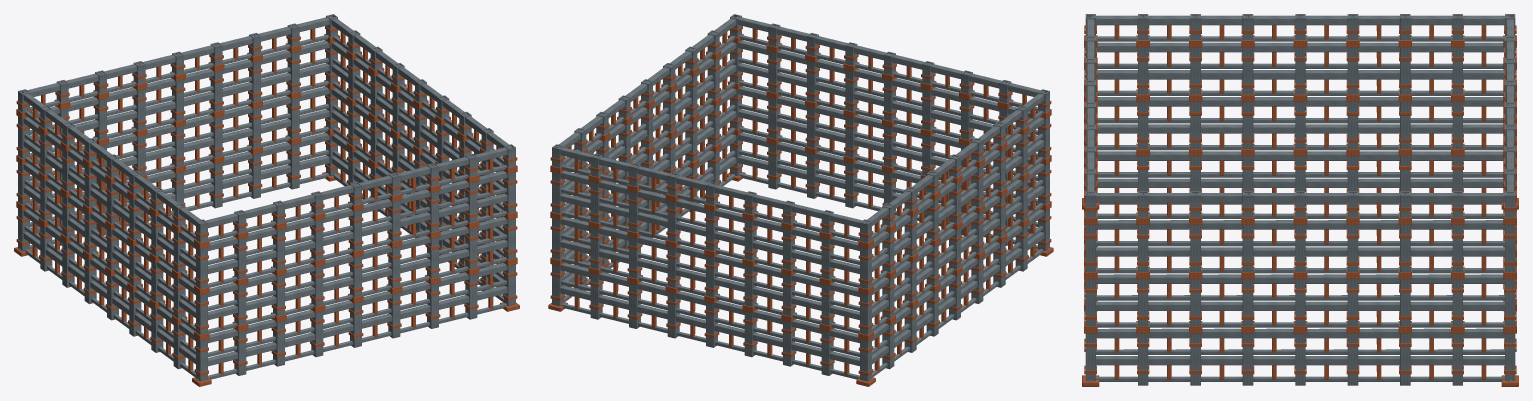
3 views of the same model, side by side, from view 1: azimuth 30°, elevation 25°; view 2: azimuth 150°, elevation 25°; view 3: azimuth 270°, elevation 25° (orthographic). The views are drawn at different scales.
Visible parts, largest first — view 1: Tier 0 side 0 post 5, Tier 0 side 0 post 3, Tier 0 side 0 post 7, Tier 0 side 2 post 3, Tier 0 side 0 post 1, Tier 0 side 2 post 1; view 2: Tier 0 side 2 post 3, Tier 0 side 2 post 5, Tier 0 side 2 post 1, Tier 0 side 0 post 5, Tier 0 side 2 post 7, Tier 0 side 0 post 7; view 3: Tier 0 side 1 post 3, Tier 0 side 1 post 5, Tier 0 side 1 post 2, Tier 0 side 1 post 4, Tier 0 side 1 post 6, Tier 0 side 1 post 1, Tier 0 side 1 post 7, Tier 2 side 3 post 3, Tier 2 side 3 post 5, Tier 1 side 1 post 3, Tier 1 side 1 post 5, Tier 3 bay 3-0-3 box girder (+143 smaller).
Part boxes in pixels (x1,y1,x2,y2): Tier 0 side 0 post 5: (388, 292, 400, 338); Tier 0 side 0 post 3: (311, 311, 323, 357); Tier 0 side 0 post 7: (465, 274, 477, 319); Tier 0 side 2 post 3: (210, 162, 222, 208); Tier 0 side 0 post 1: (234, 330, 246, 375); Tier 0 side 2 post 1: (287, 143, 299, 189); Tier 0 side 2 post 3: (667, 292, 679, 338); Tier 0 side 2 post 5: (744, 311, 756, 357); Tier 0 side 2 post 1: (590, 274, 602, 319); Tier 0 side 0 post 5: (845, 162, 857, 208); Tier 0 side 2 post 7: (821, 330, 833, 375); Tier 0 side 0 post 7: (768, 143, 780, 189); Tier 0 side 1 post 3: (1242, 333, 1253, 385); Tier 0 side 1 post 5: (1347, 333, 1358, 385); Tier 0 side 1 post 2: (1190, 333, 1200, 385); Tier 0 side 1 post 4: (1295, 333, 1305, 385); Tier 0 side 1 post 6: (1400, 333, 1410, 385); Tier 0 side 1 post 1: (1138, 333, 1148, 385); Tier 0 side 1 post 7: (1452, 333, 1462, 385); Tier 2 side 3 post 3: (1347, 47, 1358, 94); Tier 2 side 3 post 5: (1242, 47, 1253, 94); Tier 1 side 1 post 3: (1242, 279, 1253, 326); Tier 1 side 1 post 5: (1347, 279, 1358, 326); Tier 3 bay 3-0-3 box girder: (1300, 15, 1352, 25).
Bounding box in the file's own units: 3.75 × 1.8 × 3.75.
2 materials, 2 textured.
